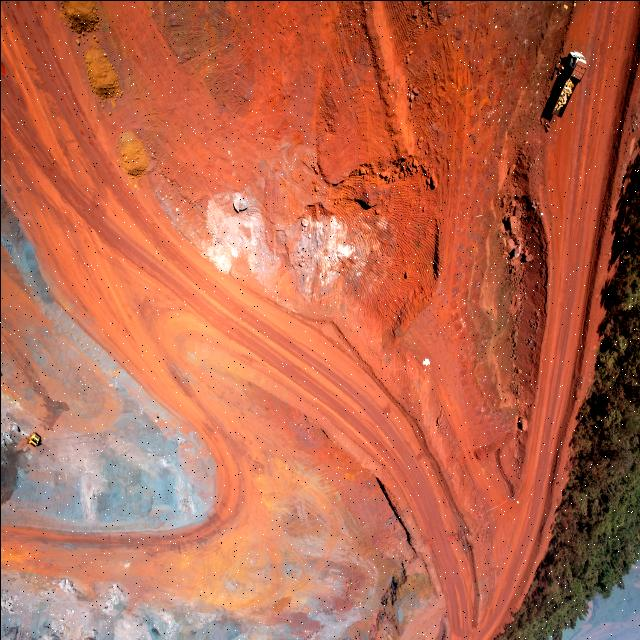Dumper truck: (546, 52, 582, 118), (18, 432, 40, 454)
